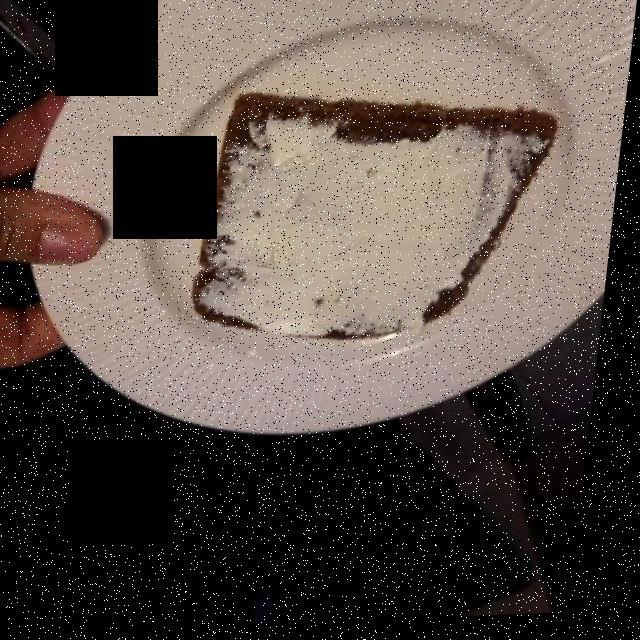bread: (201, 104, 557, 342)
cheese: (214, 115, 529, 339)
